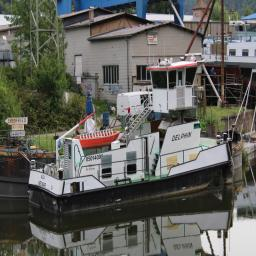tugboat: (27, 50, 236, 224)
